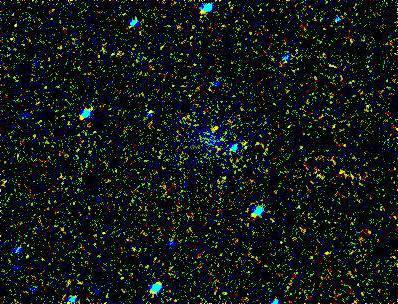star: (201, 113, 231, 143)
